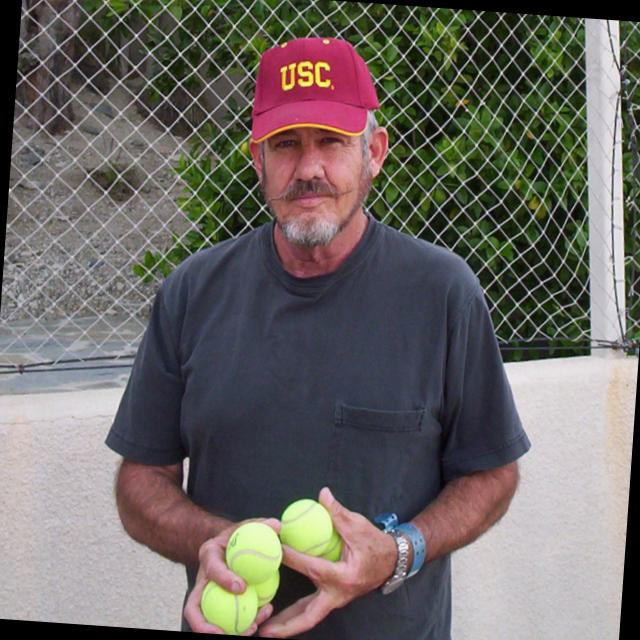Tennis Ball: (197, 489, 348, 639)
